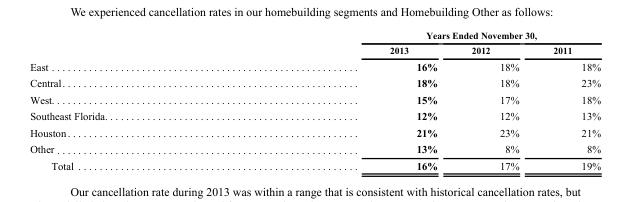table: (29, 29, 600, 171)
table column: (29, 29, 247, 171), (247, 29, 453, 171), (453, 29, 535, 171), (535, 29, 600, 171)
table column header: (29, 29, 600, 57)
table row: (29, 57, 600, 74), (29, 90, 600, 107), (29, 107, 600, 124), (29, 140, 600, 157), (29, 74, 600, 90), (29, 124, 600, 140), (29, 42, 600, 57), (29, 157, 600, 171), (29, 29, 600, 42)
table spanning cell: (247, 29, 600, 42)
